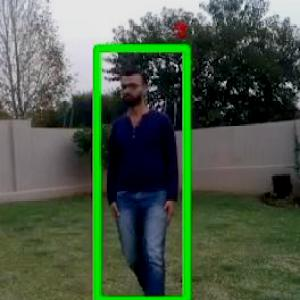follow: (96, 40, 188, 299)
